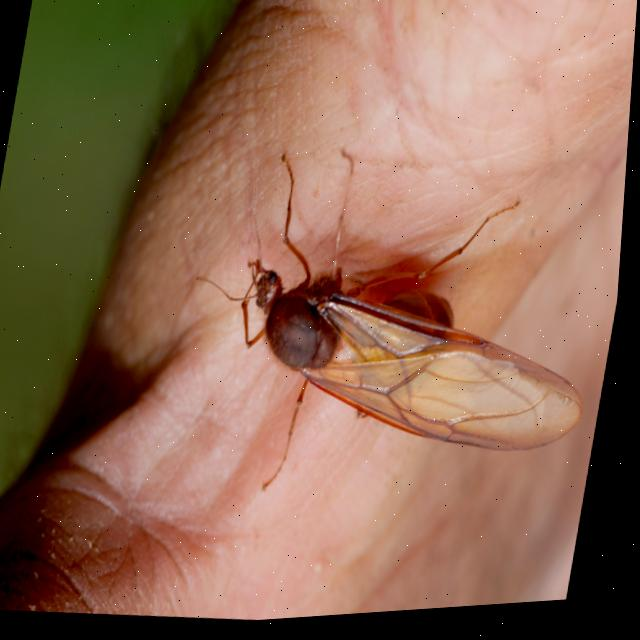Alive-Male-Alate: (165, 124, 629, 531)
